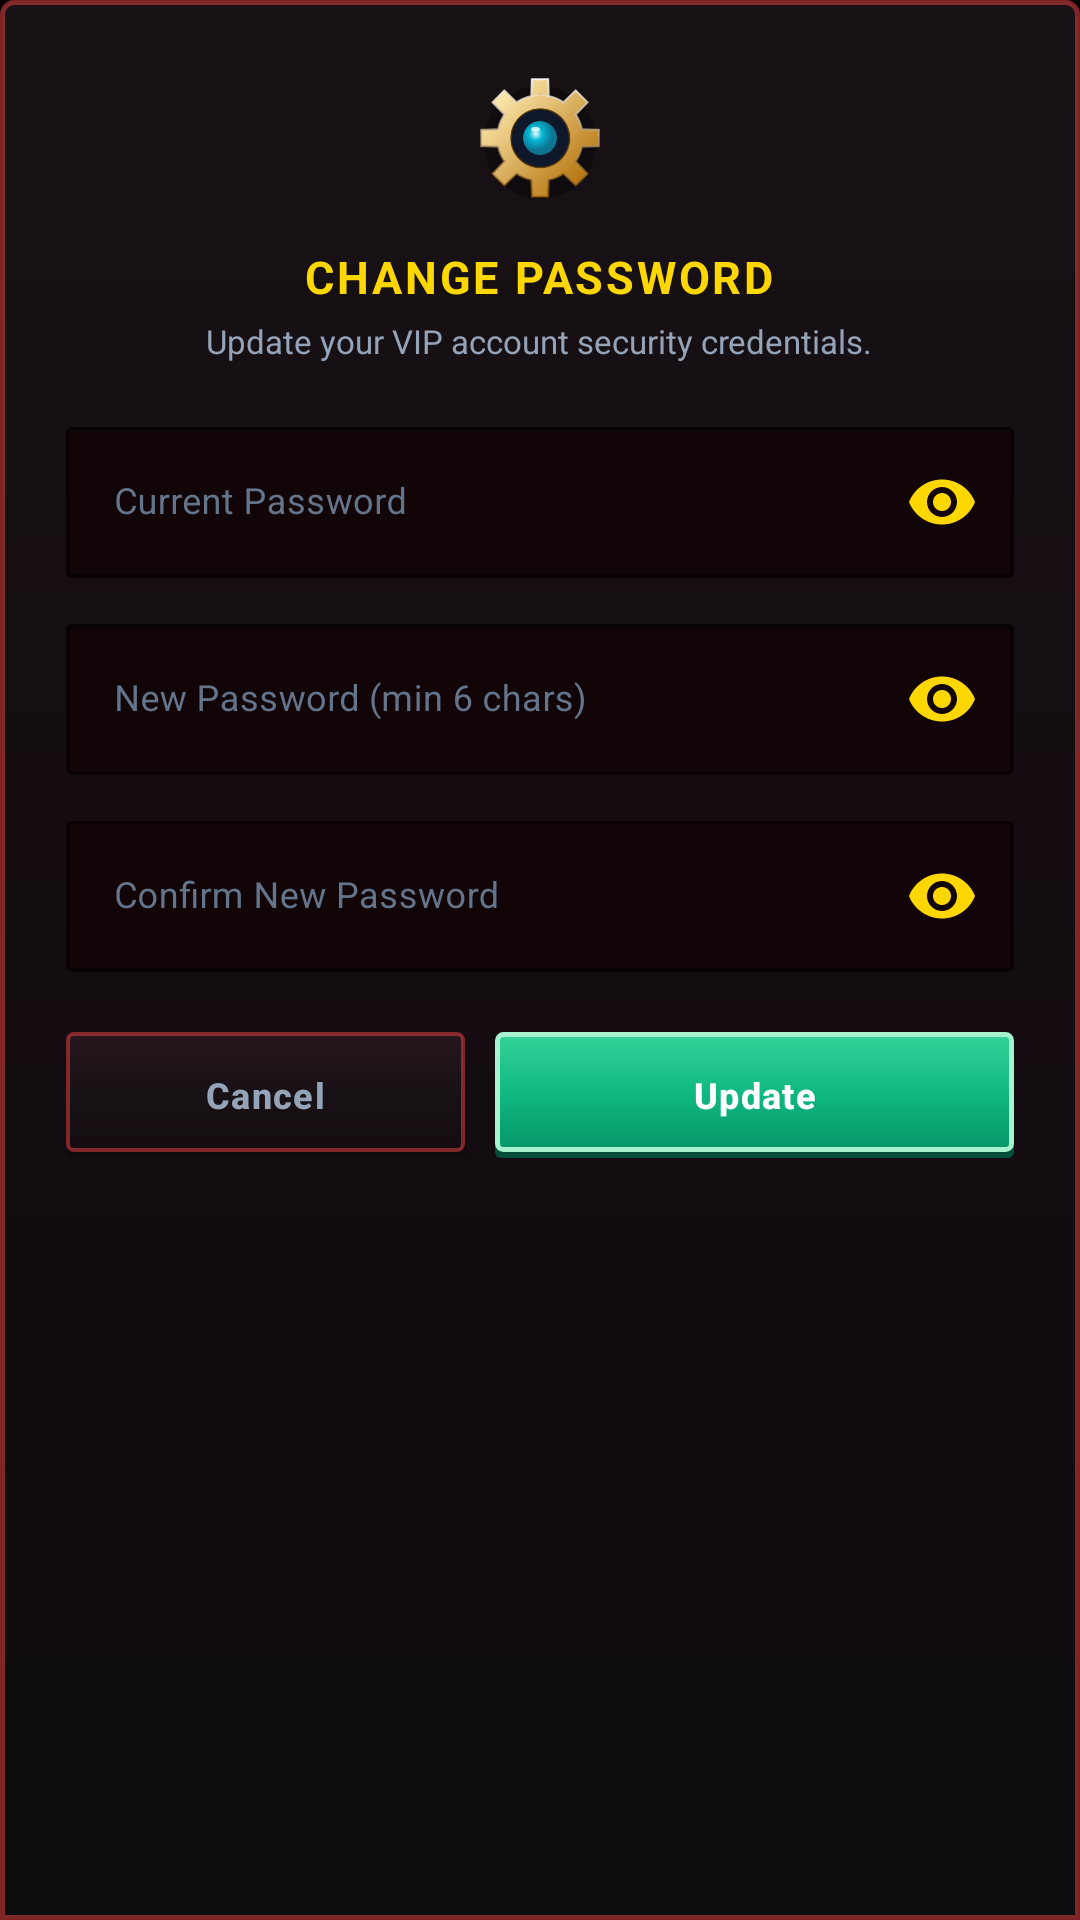

Screen size 1080x1920. Icon name, then its box in pixels as box=[x1, y1, x2, y2]:
settings 3d: box=[480, 78, 600, 198]
